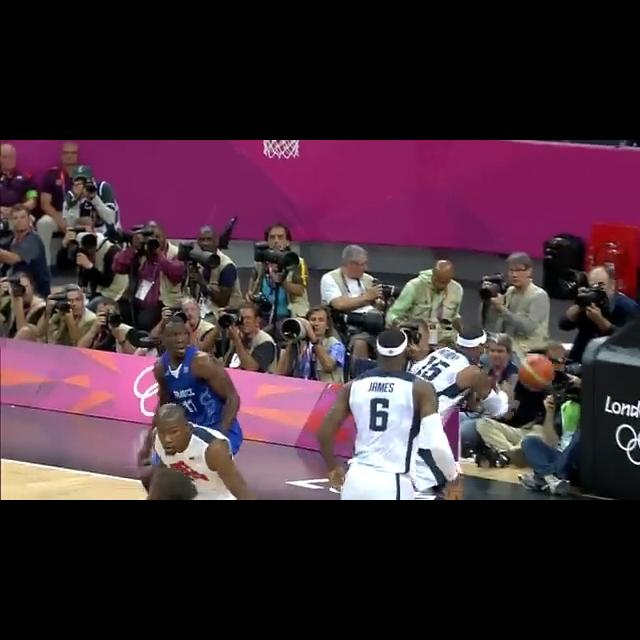basketball: (516, 352, 558, 391)
